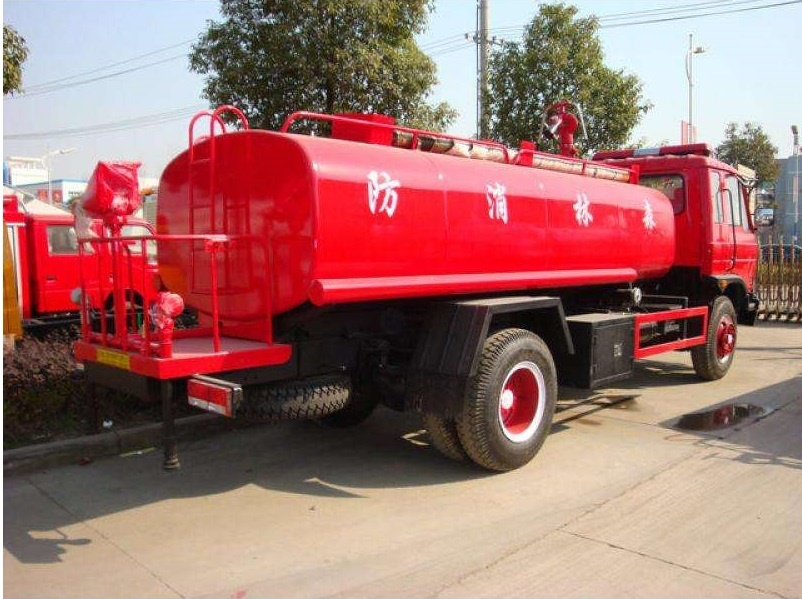fire engine: (69, 100, 763, 467)
